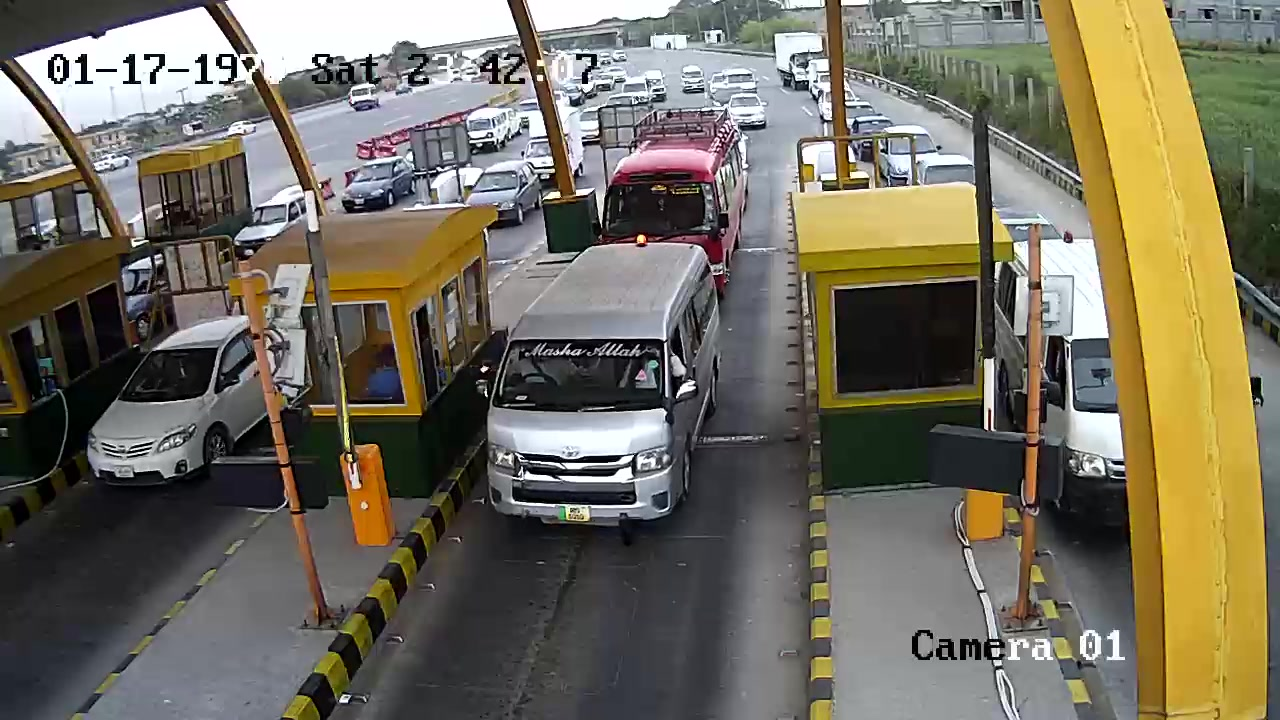F3: (481, 240, 724, 534)
